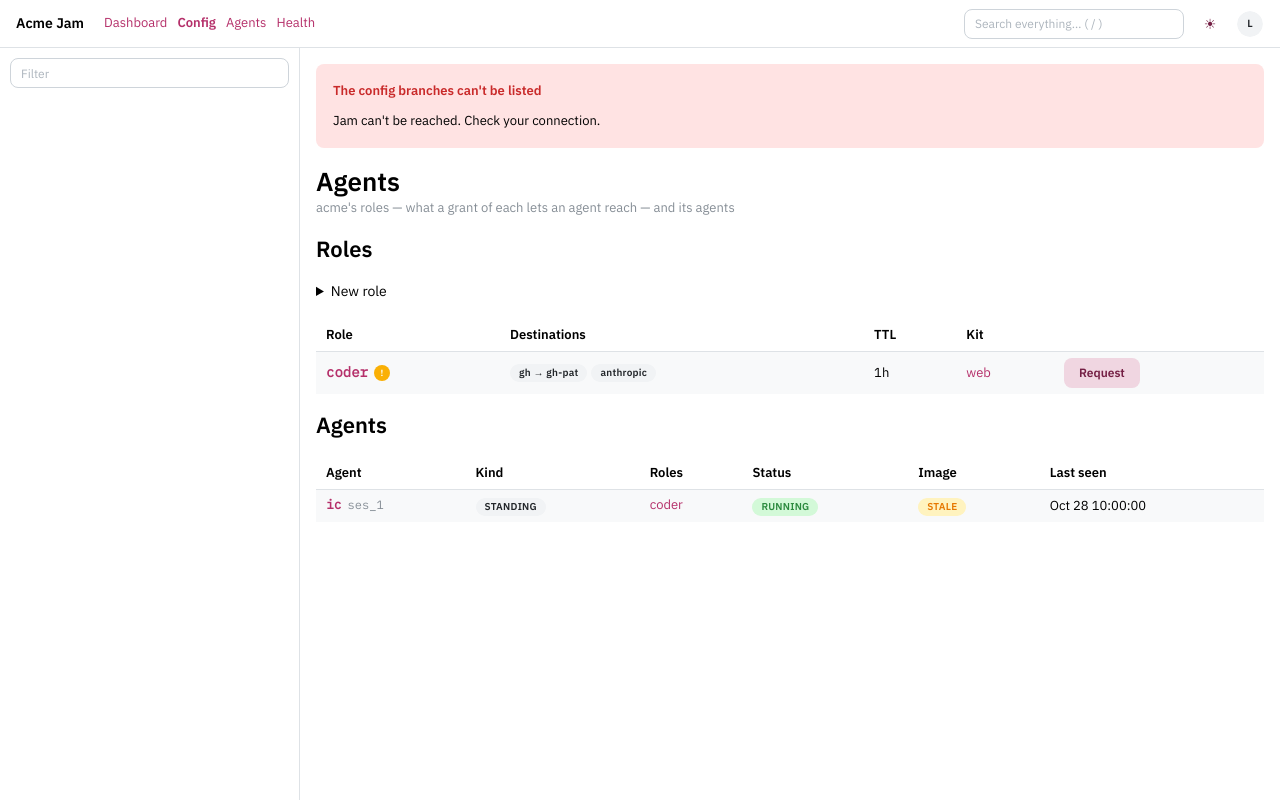
Scenario: a project's agents › requests an agent and says so
Click the button "Request" at [1102, 373], box [1064,358,1140,388]
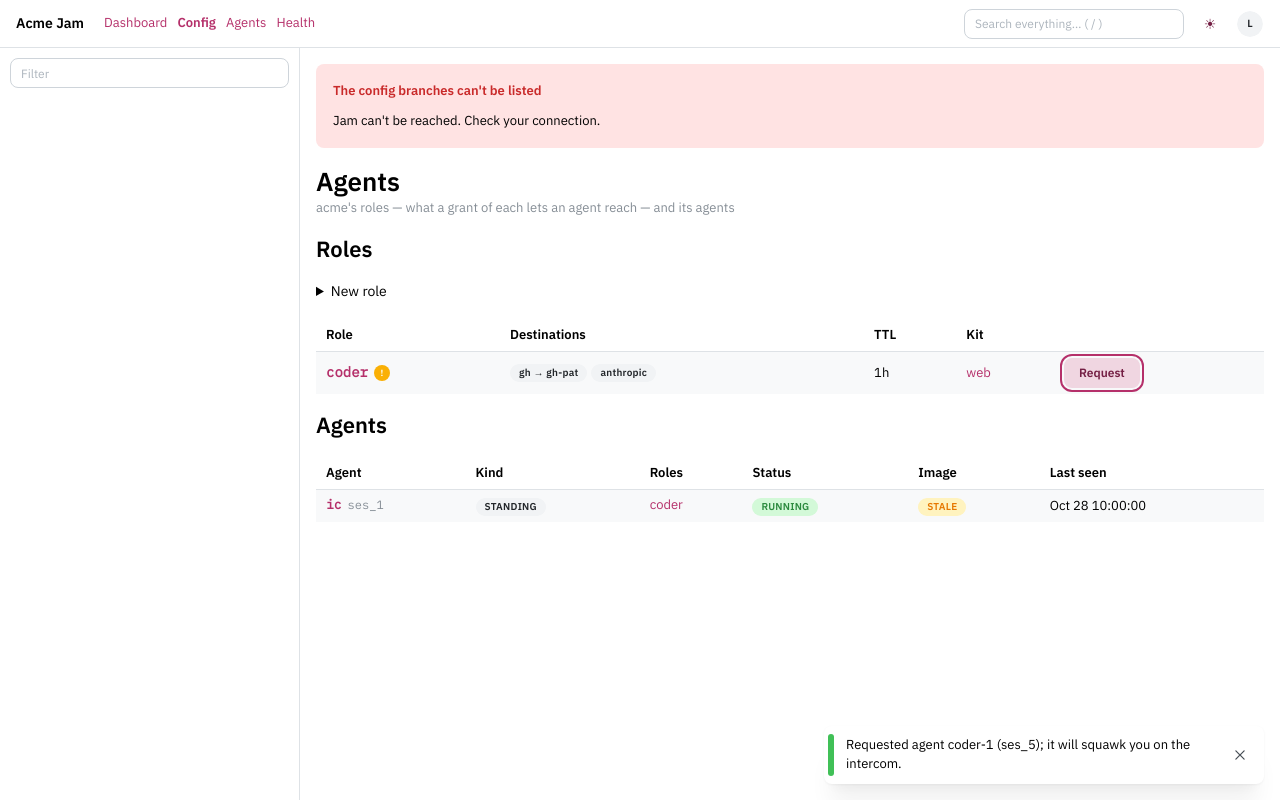
Expected: the text "Requested agent coder-1 (ses_5); it will squawk you on the intercom." is shown, [846,736,1216,774]
